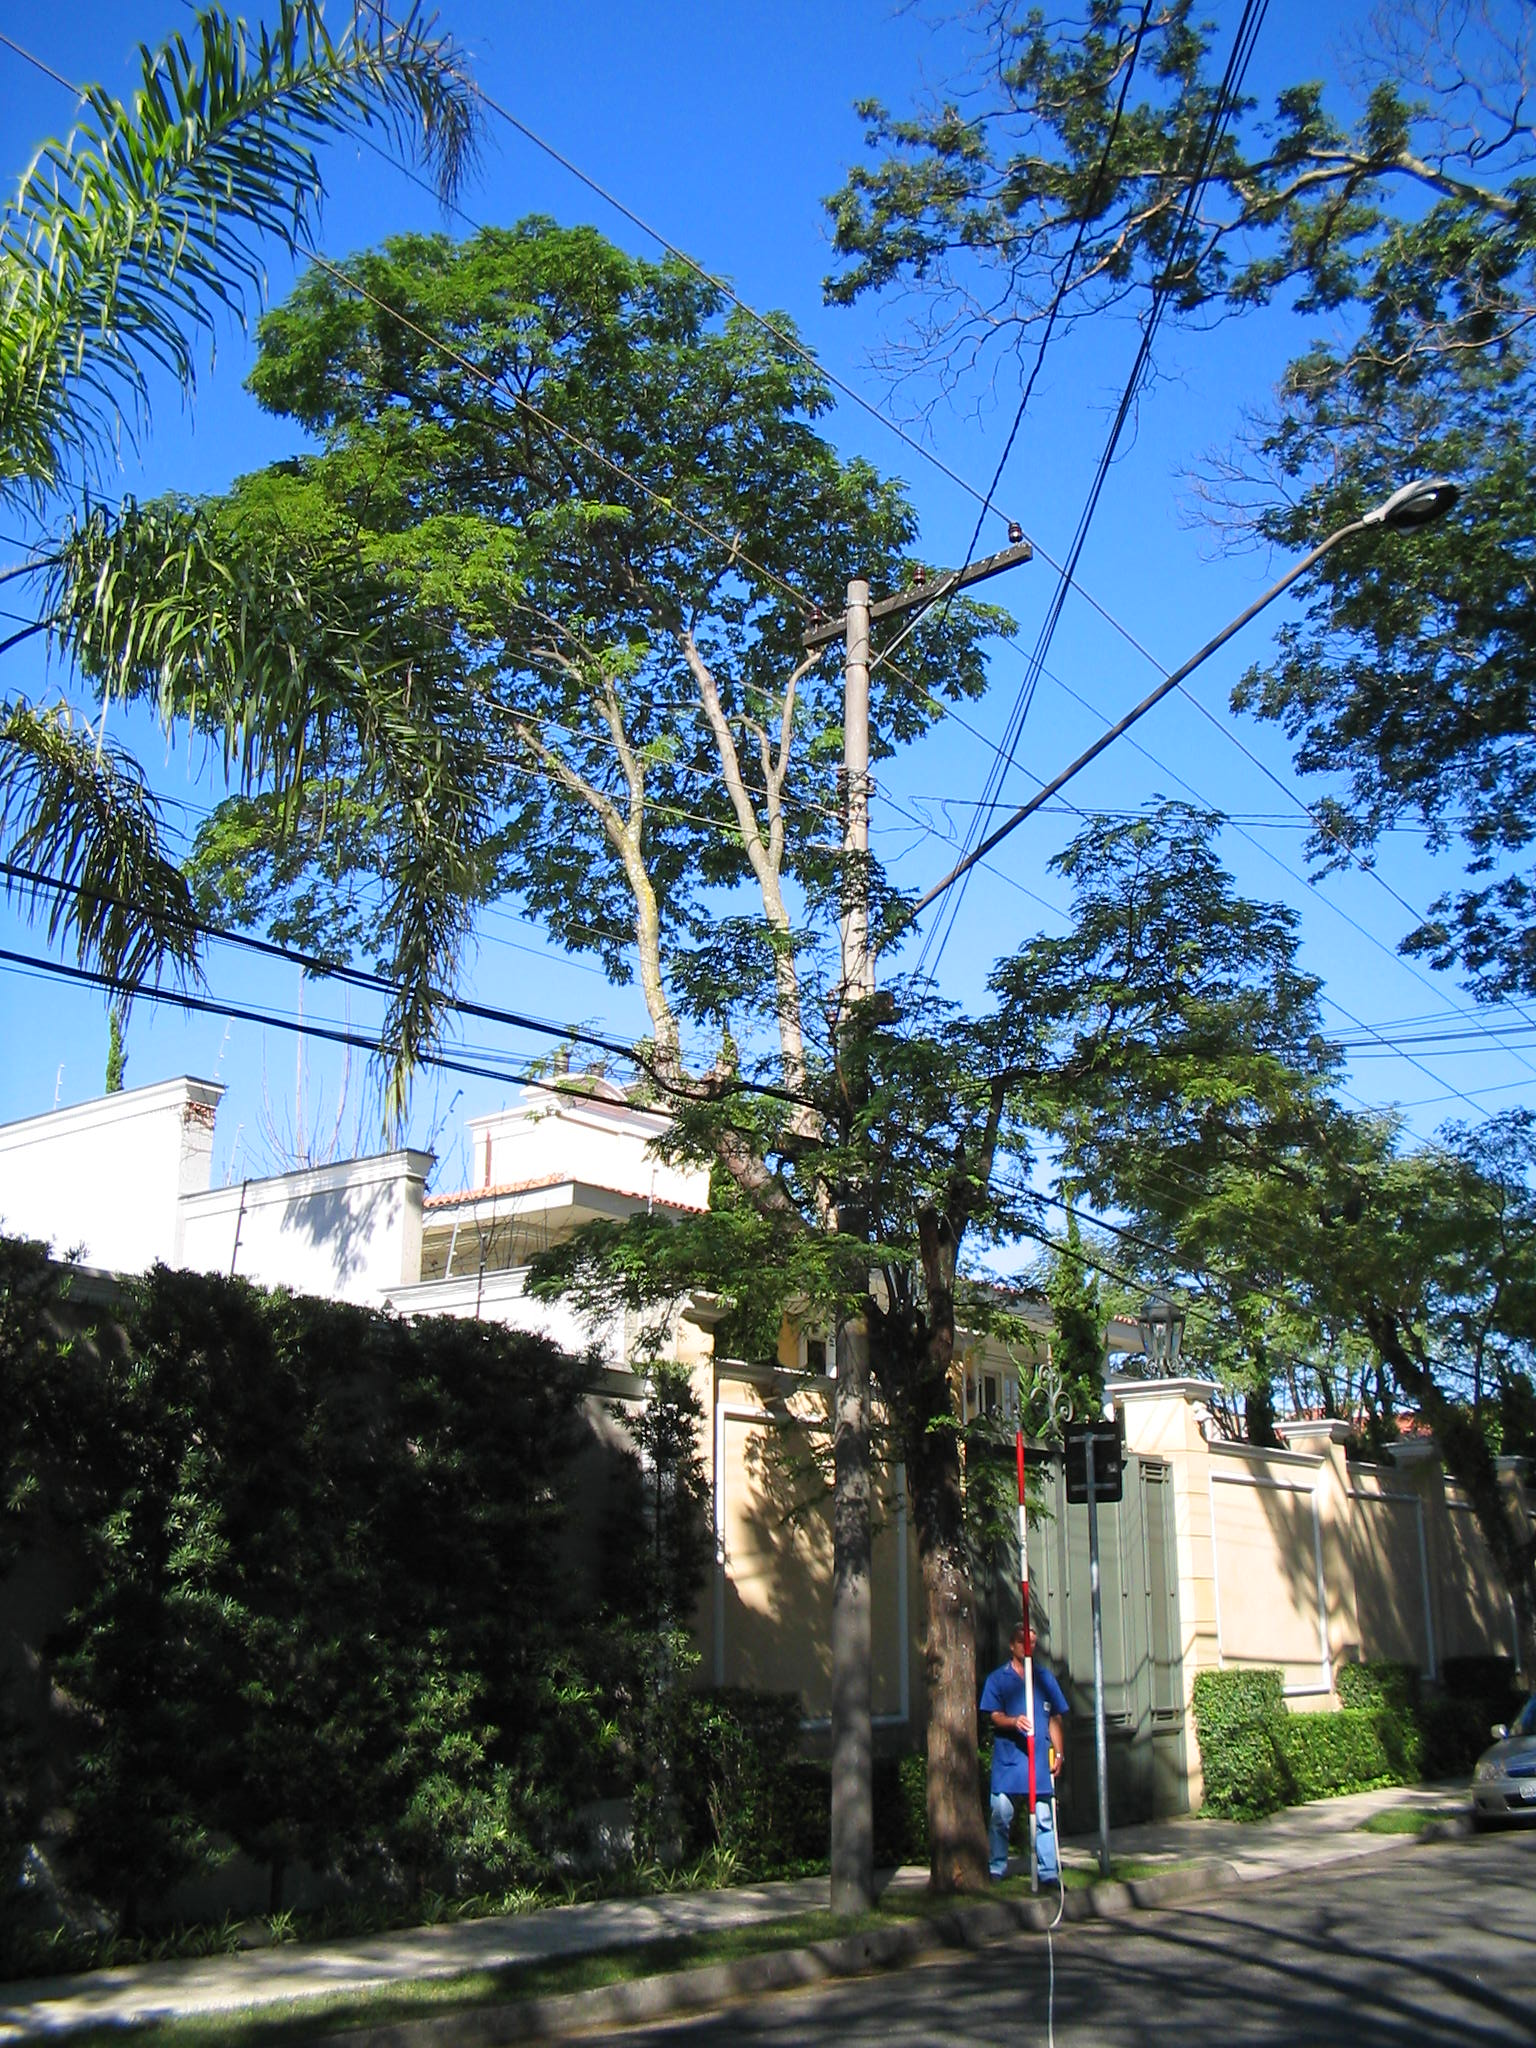stem: (881, 1363, 1016, 1895)
stick: (1000, 1429, 1046, 1895)
